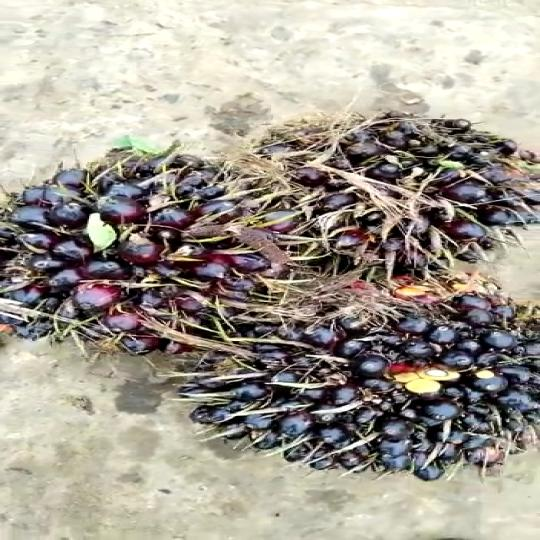mentah: (212, 276, 540, 475), (1, 147, 283, 367), (262, 117, 540, 284)
